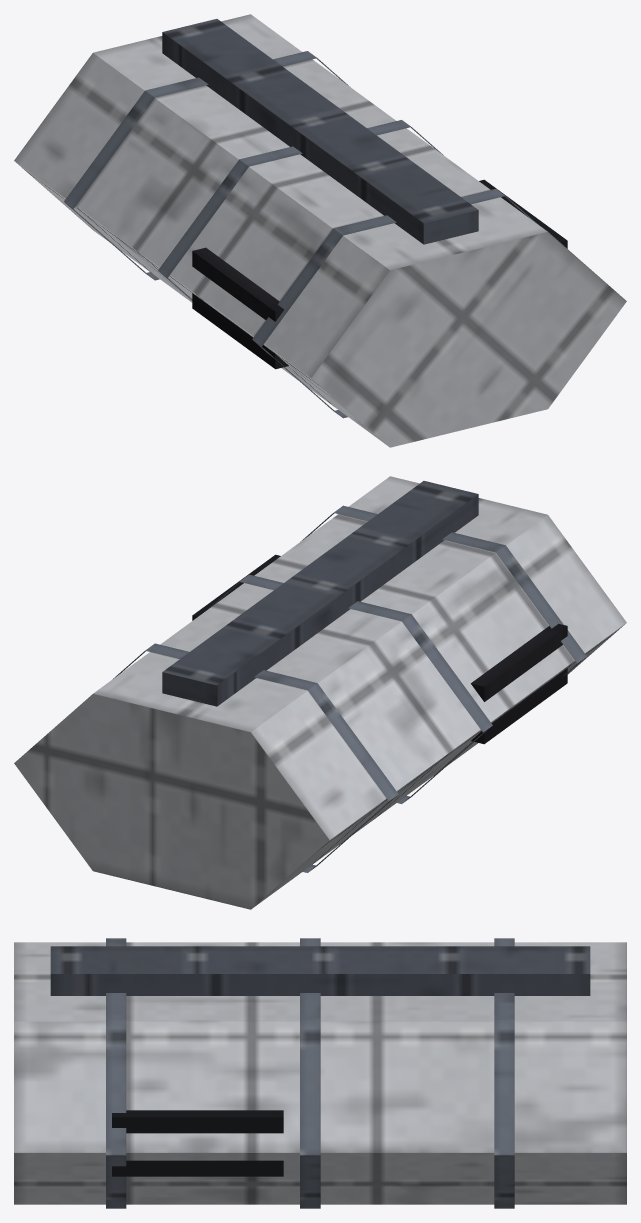
Rendered from ship_fuselage_bay.obj.
The picture shows the model from 3 angles, top to bottom: view 1: azimuth 30°, elevation 25°; view 2: azimuth 150°, elevation 25°; view 3: azimuth 270°, elevation 25°; orthographic projection. The views are drawn at different scales.
Visible parts, largest first — view 1: shell, spine, frames, vents; view 2: shell, spine, frames, vents; view 3: shell, spine, frames, vents.
Part boxes in pixels (<box>): shell: <box>14,14,626,447</box>; spine: <box>162,19,478,244</box>; frames: <box>64,51,537,418</box>; vents: <box>192,179,567,369</box>; shell: <box>14,476,626,909</box>; spine: <box>162,481,478,706</box>; frames: <box>113,505,586,872</box>; vents: <box>192,554,567,744</box>; shell: <box>14,942,626,1204</box>; spine: <box>50,946,590,995</box>; frames: <box>106,938,514,1208</box>; vents: <box>112,1110,283,1176</box>.
Size of the model in its own units: 1.9 by 1.12 by 3.
4 materials, 4 textured.
